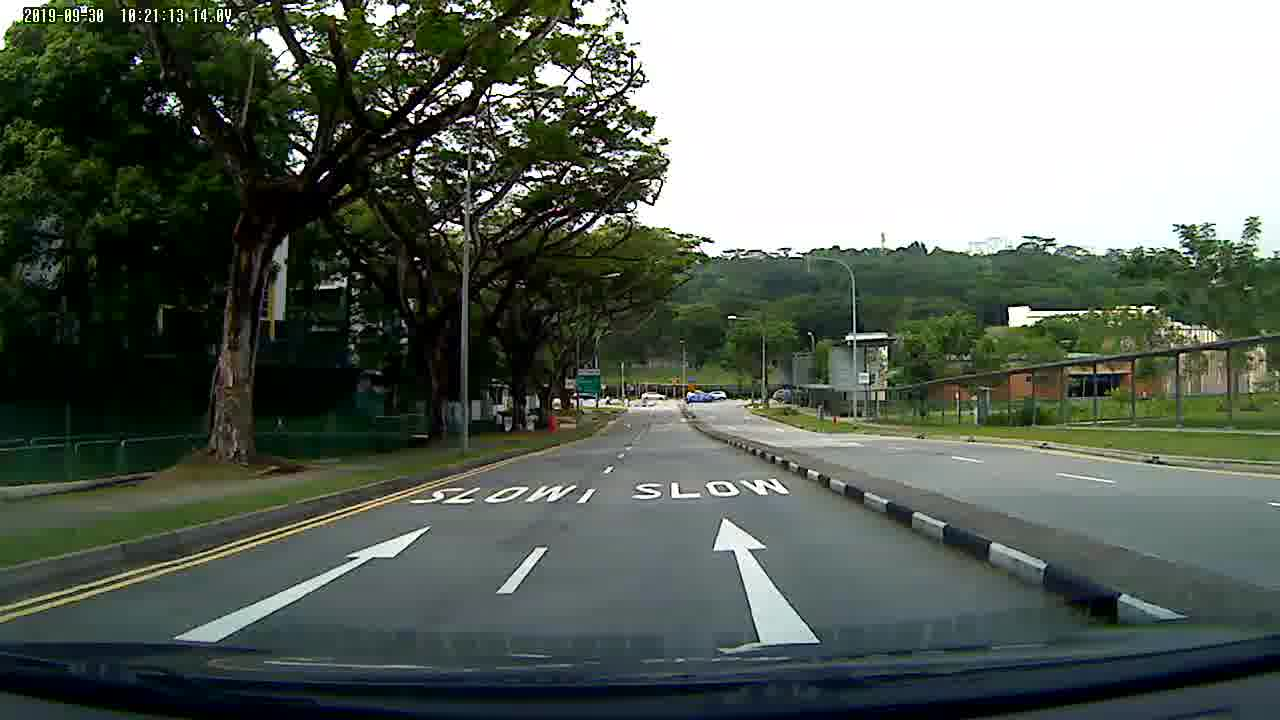car: (642, 390, 668, 401)
